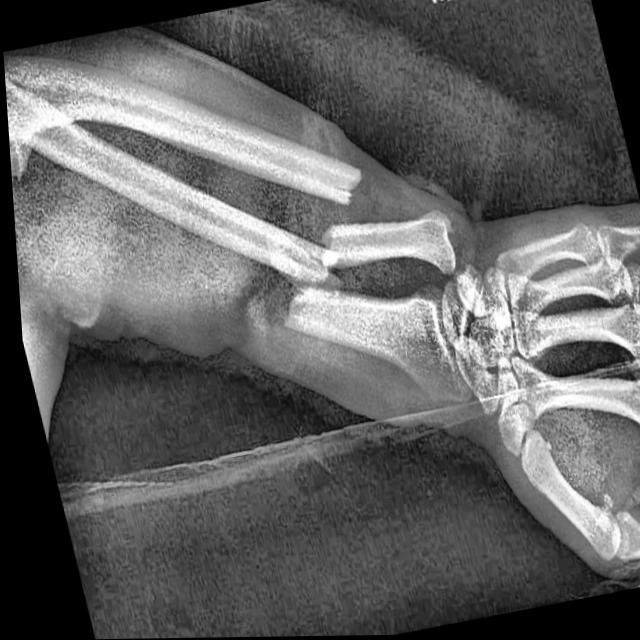fracture: (322, 164, 377, 241), (279, 251, 336, 316)
